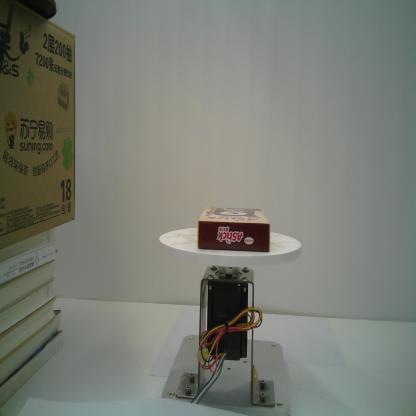Dessert: (196, 206, 272, 254)
